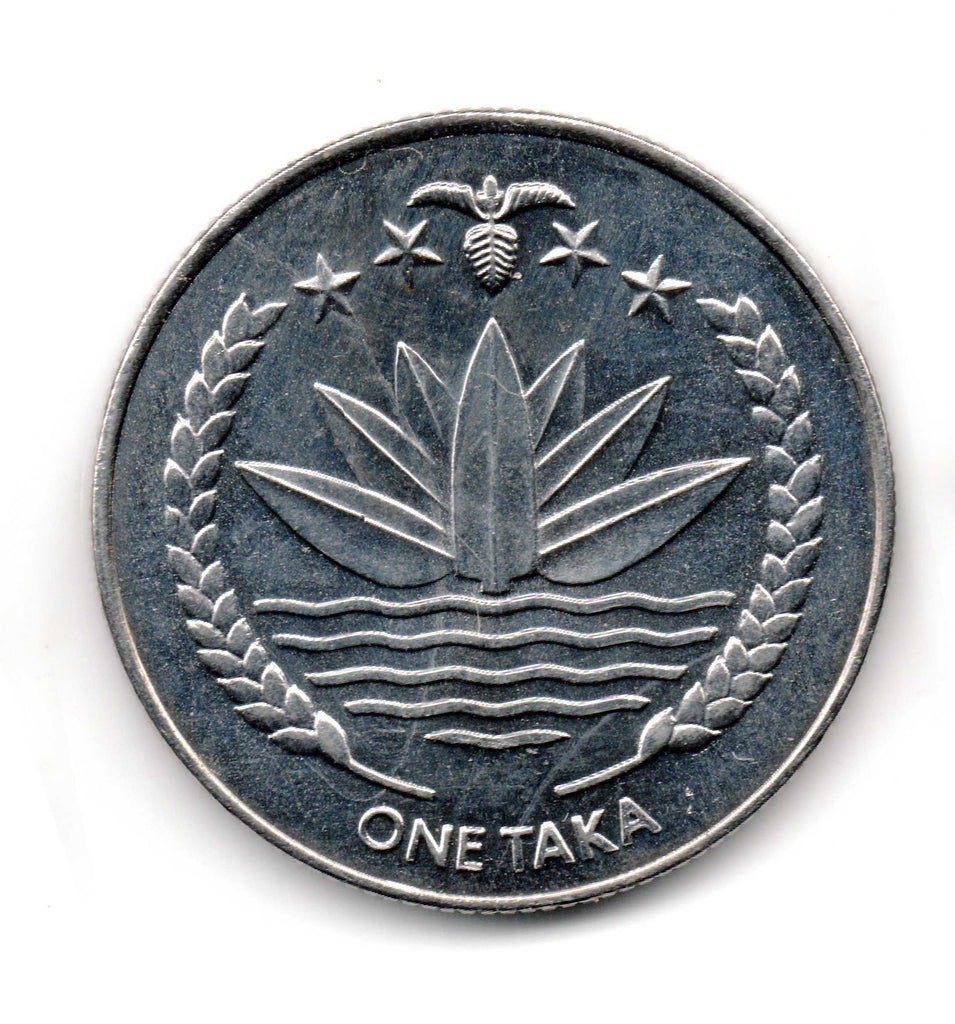2 taka coin: (90, 109, 903, 921)
